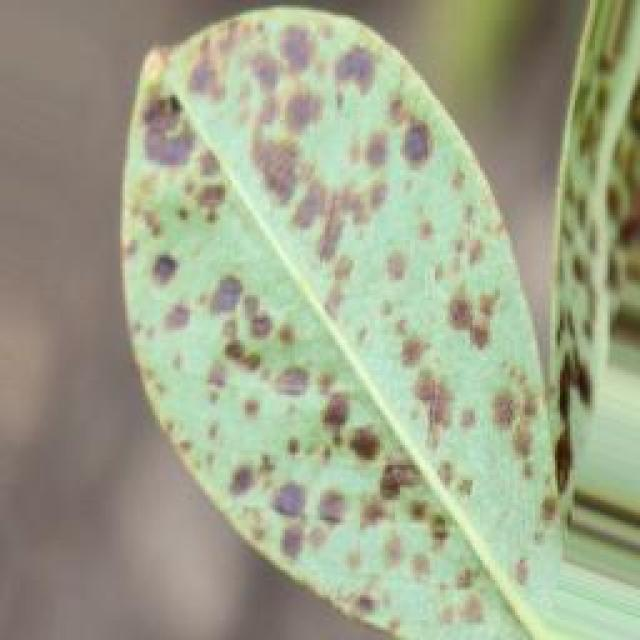Whitefly: (101, 8, 570, 594)
